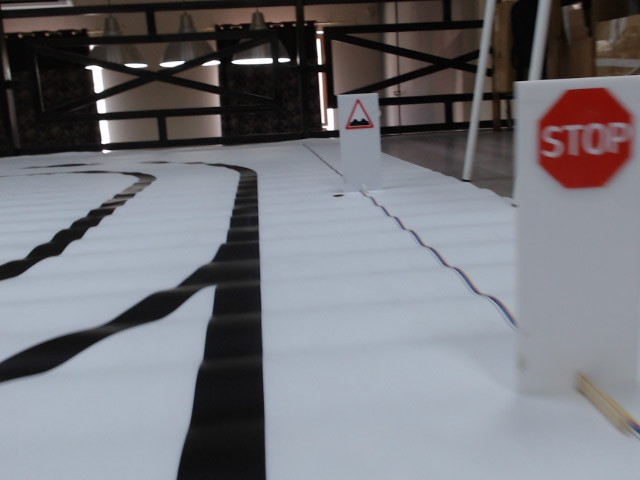Nerov: (345, 100, 375, 131)
Stop: (534, 86, 634, 192)
